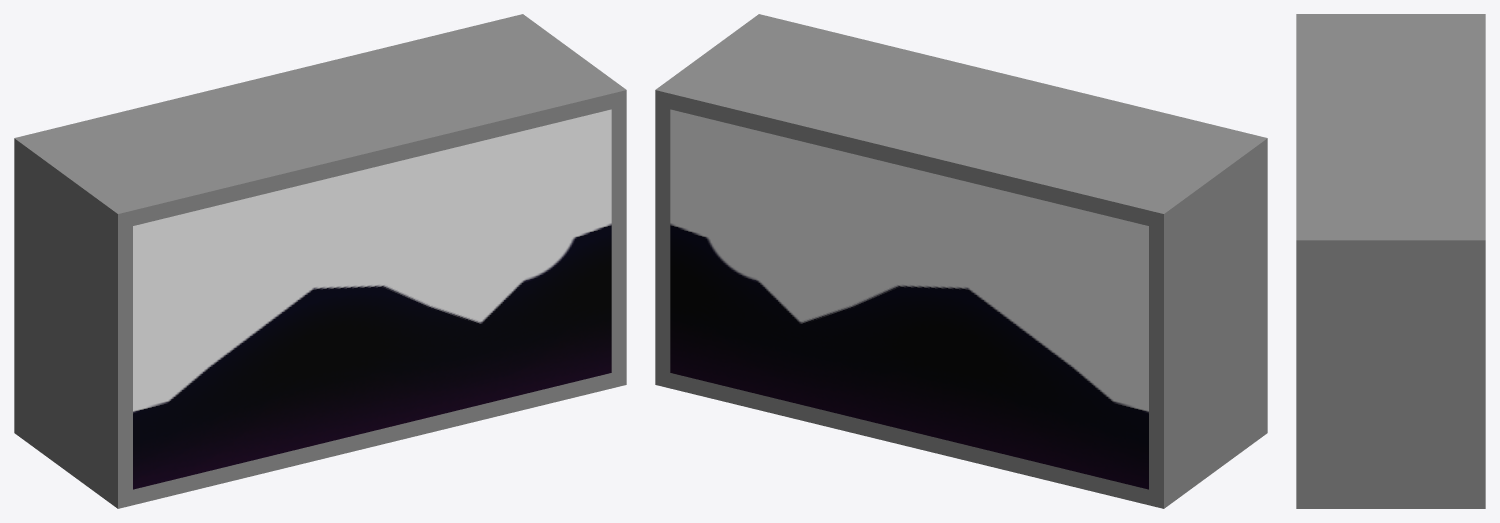
The model's file is Minus.FBX.
The picture shows the model from 3 angles, left to right: view 1: azimuth 30°, elevation 25°; view 2: azimuth 150°, elevation 25°; view 3: azimuth 270°, elevation 25°; orthographic projection. The views are drawn at different scales.
Visible parts, largest first — view 1: Minus, Minus_outline; view 2: Minus, Minus_outline; view 3: Minus_outline.
Boxes of the visible parts, x1,y1,x2,y2 form: Minus: (133, 109, 611, 489); Minus_outline: (14, 14, 626, 508); Minus: (670, 109, 1148, 489); Minus_outline: (655, 14, 1267, 508); Minus_outline: (1296, 14, 1485, 508).
Size of the model in its own units: 33.95 by 18.8 by 12.
Materials: 2 (1 with a texture image).
